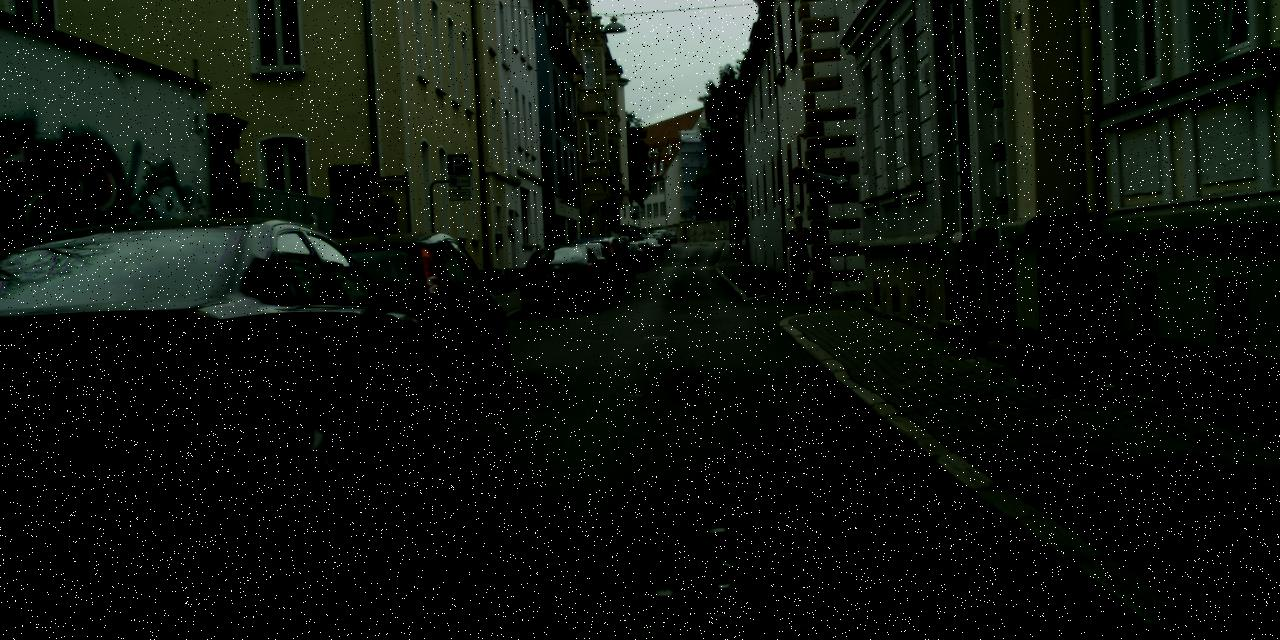ped: (780, 215, 814, 296), (732, 225, 742, 250)
